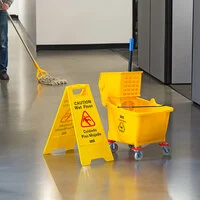wet caution sign: (34, 79, 111, 172)
